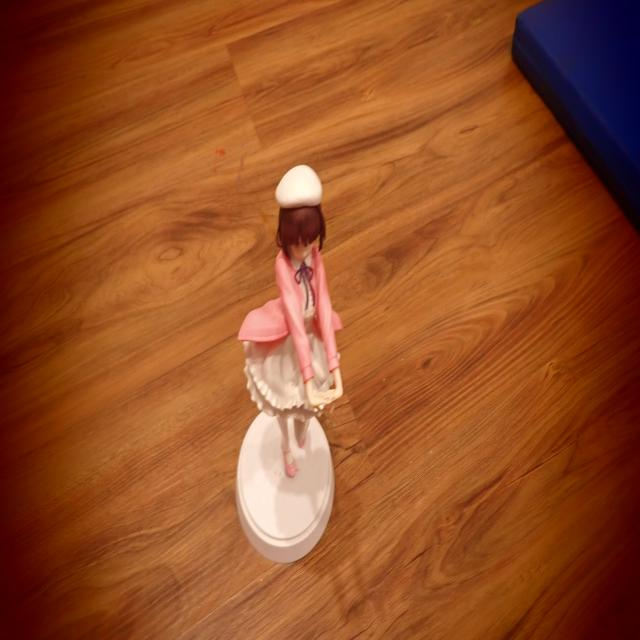My-pink-anime-figure: (239, 166, 343, 477)
